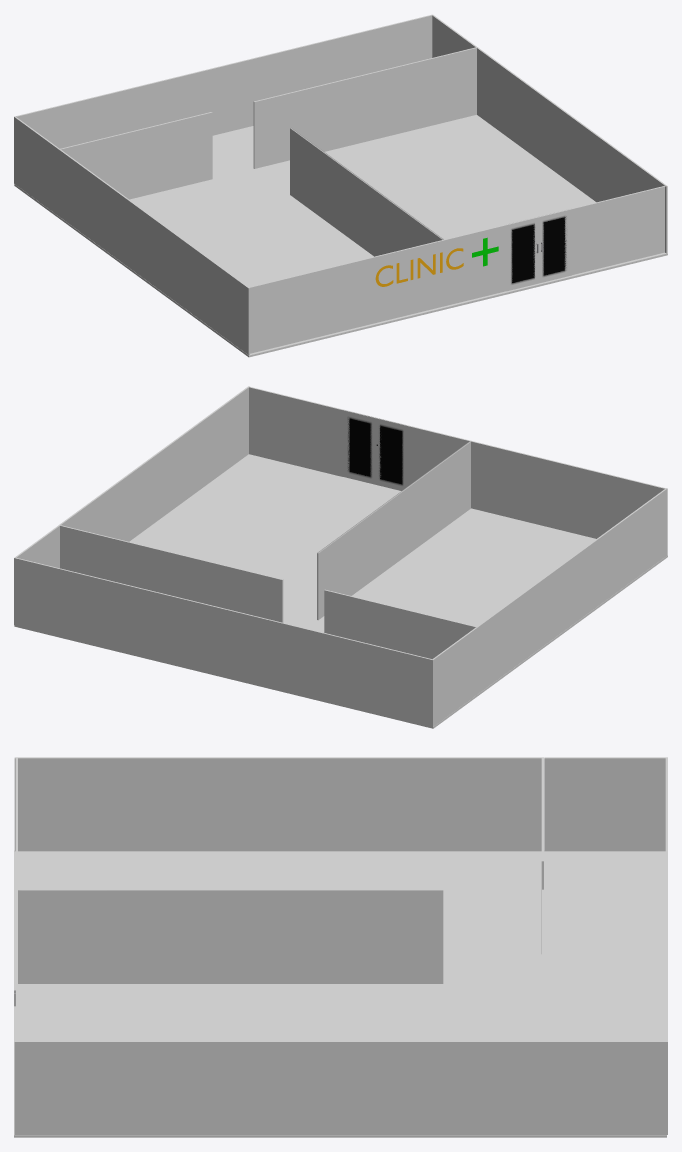
File: MapLayout.fbx
3 views of the same model, one above another, from view 1: azimuth 30°, elevation 25°; view 2: azimuth 150°, elevation 25°; view 3: azimuth 270°, elevation 25° (orthographic). The views are drawn at different scales.
Visible parts, largest first — view 1: Walls1; view 2: Walls1; view 3: Walls1.
Boxes of the visible parts, box(x1,y1,x2,y2) form: Walls1: box(14, 14, 667, 357); Walls1: box(14, 386, 667, 728); Walls1: box(14, 757, 667, 1137).
Bounding box in the file's own units: 1476 × 233 × 1432.
1 material, 1 textured.
